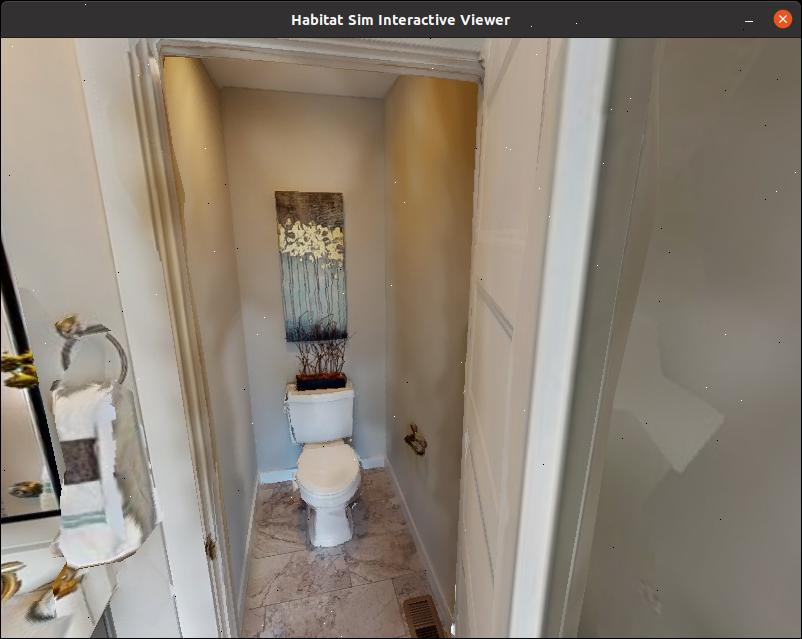door: (477, 41, 612, 639)
door-frame: (67, 41, 505, 639)
toilet: (273, 361, 372, 583)
